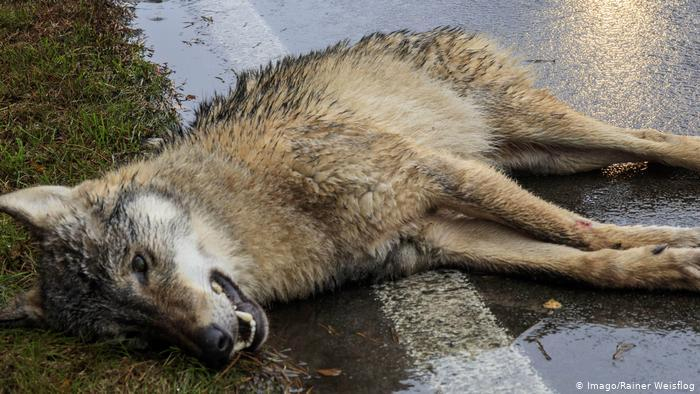fox: (3, 25, 700, 361)
